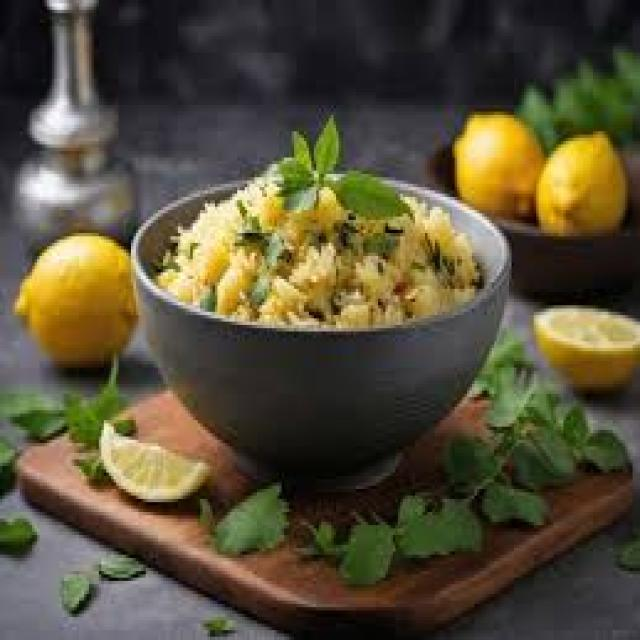UPMA: (151, 148, 482, 318)
